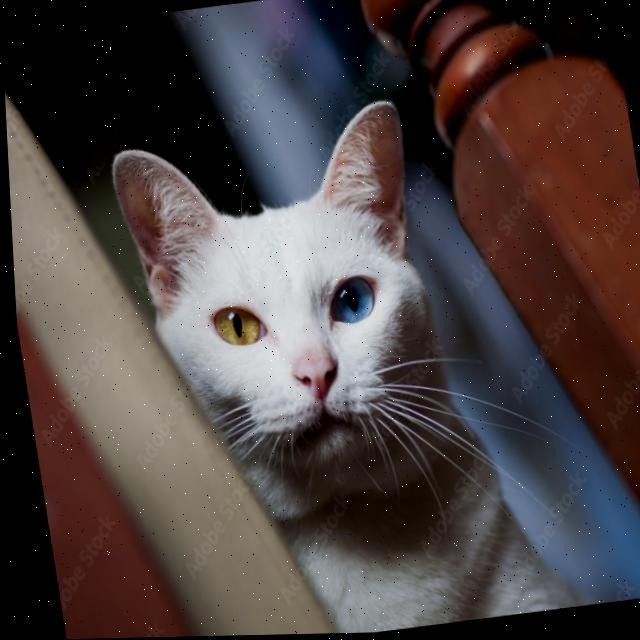Khao Manee: (92, 70, 628, 638)
